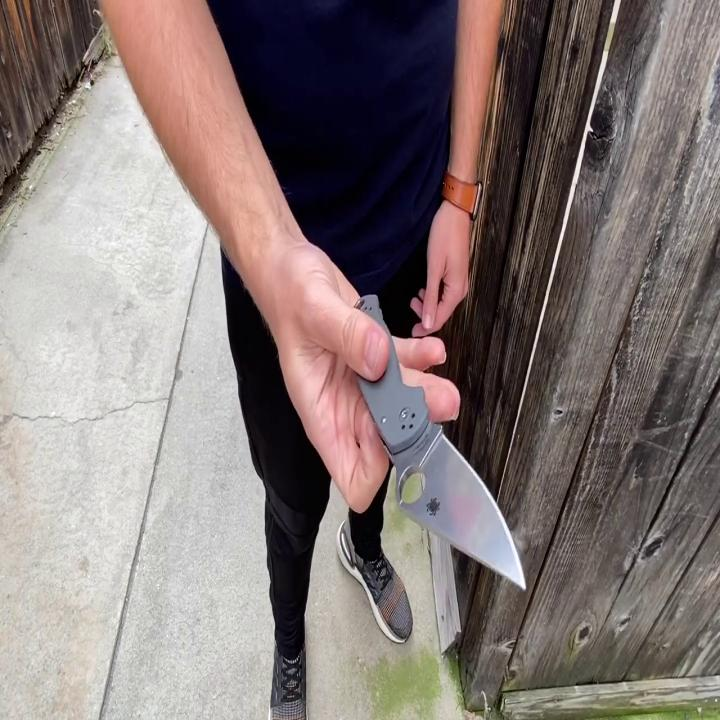knife: (349, 288, 532, 597)
